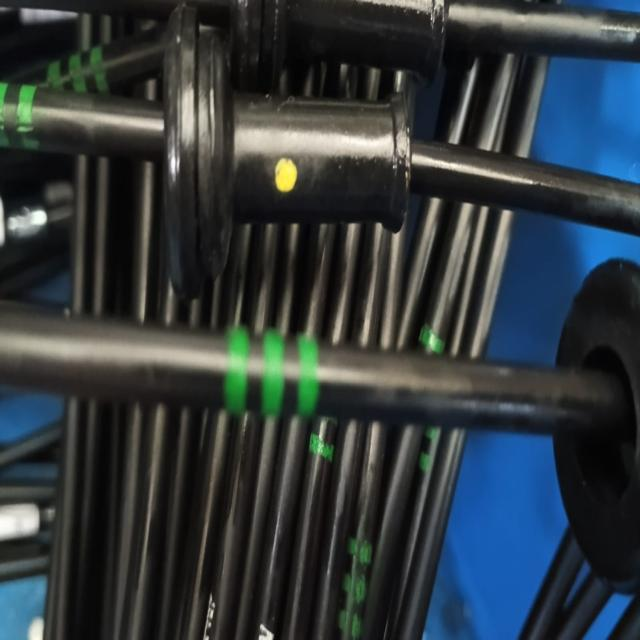green: (225, 323, 323, 419), (46, 49, 112, 92), (342, 534, 367, 640), (1, 81, 36, 148)
